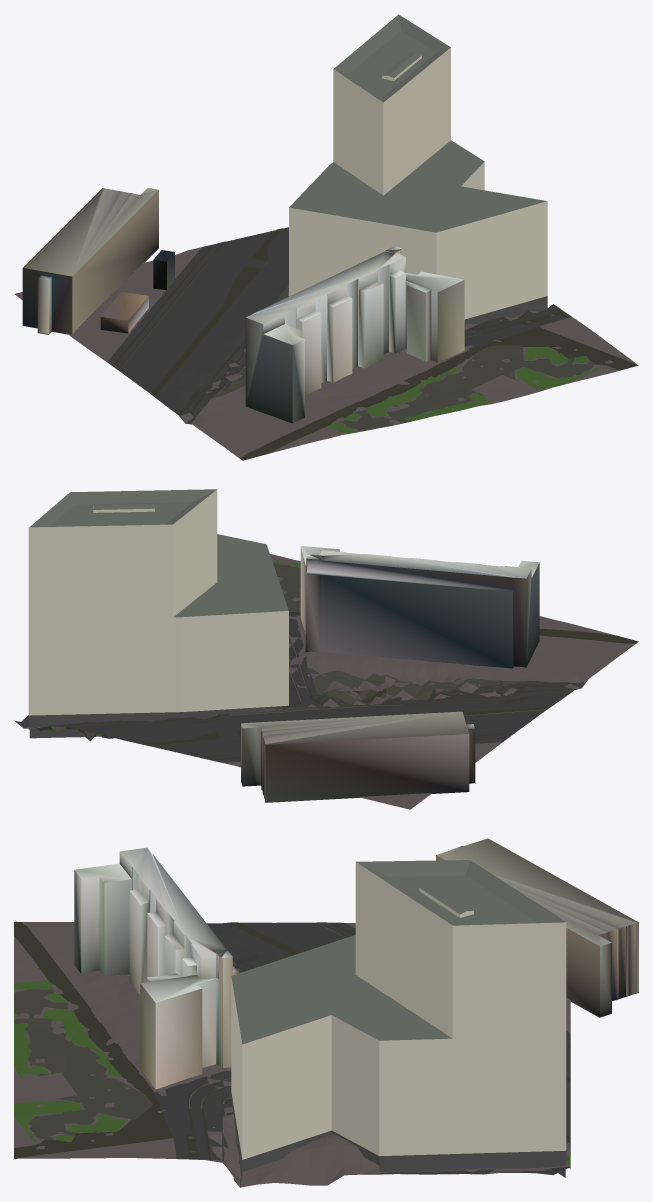
3 renders of one model, top to bottom at view 1: azimuth 30°, elevation 25°; view 2: azimuth 150°, elevation 25°; view 3: azimuth 270°, elevation 25°, orthographic. The views are drawn at different scales.
Visible parts, largest first — view 1: c_m21_p05; view 2: c_m21_p05; view 3: c_m21_p05.
Boxes of the visible parts, x1=… form: c_m21_p05: x1=14, y1=14, x2=638, y2=460; c_m21_p05: x1=14, y1=489, x2=638, y2=809; c_m21_p05: x1=14, y1=838, x2=638, y2=1187.
Bounding box in the file's own units: 137 × 65.47 × 144.
